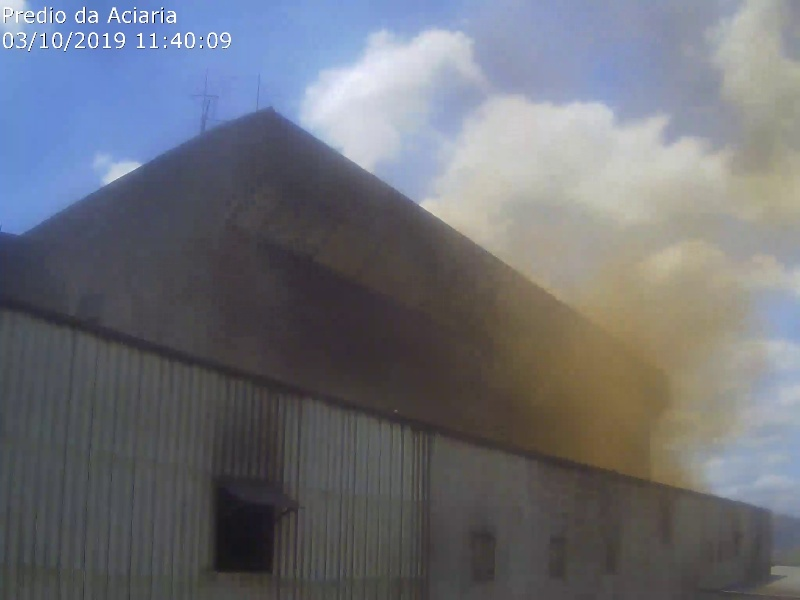bom: (1, 1, 288, 294), (278, 7, 437, 326)
pessimo: (481, 7, 800, 490)
